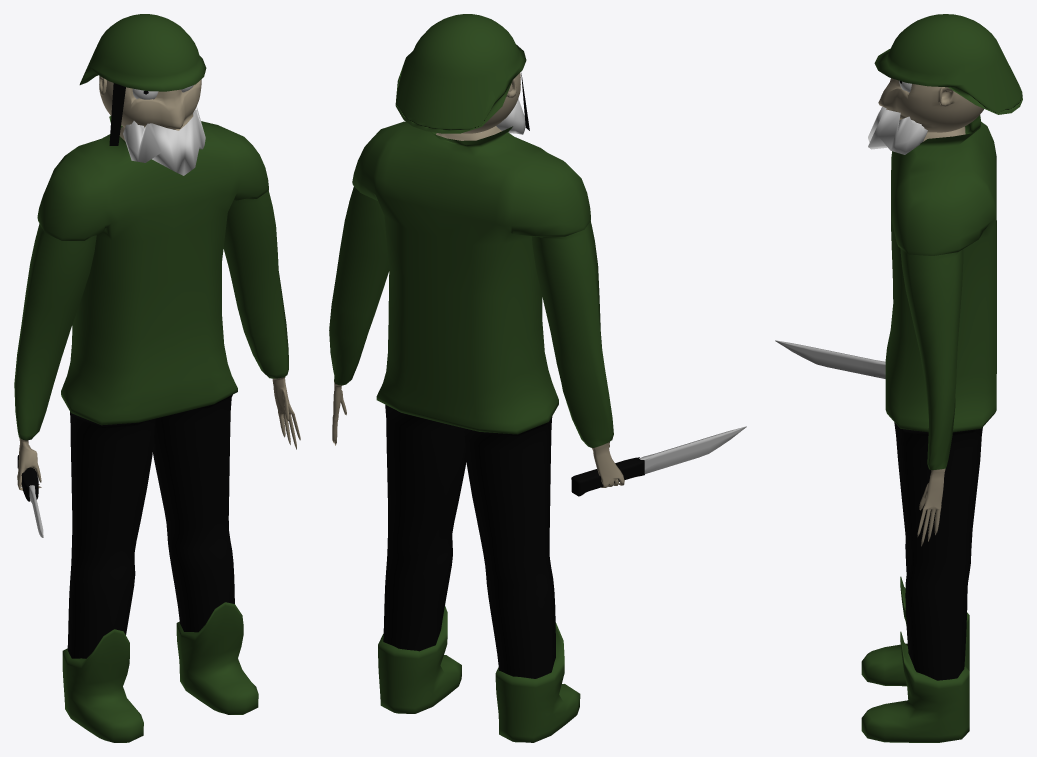
3 views of the same model, side by side, from view 1: azimuth 30°, elevation 25°; view 2: azimuth 150°, elevation 25°; view 3: azimuth 270°, elevation 25° (orthographic). The views are drawn at different scales.
Parts seen in each view (by area): view 1: Body, Boot, Helmet, Beard, Head, Knife2:polySurface11; view 2: Body, Helmet, Boot, Knife2:polySurface11, Head; view 3: Body, Helmet, Boot, Head, Beard, Knife2:polySurface11.
Boxes of the visible parts, x1,y1,x2,y2 form: Body: (14,116,300,658); Boot: (62,602,258,742); Helmet: (79,14,206,145); Beard: (123,106,205,175); Head: (99,76,201,130); Knife2:polySurface11: (17,455,43,537); Body: (329,121,624,678); Helmet: (395,14,529,133); Boot: (378,606,580,742); Knife2:polySurface11: (571,426,746,496); Head: (462,73,520,133); Body: (885,115,996,680); Helmet: (874,14,1022,114); Boot: (861,576,969,742); Head: (878,78,983,132); Beard: (868,106,927,154); Knife2:polySurface11: (775,340,885,378).
Size of the model in its own units: 5.09 by 10.11 by 3.3.
